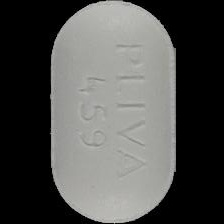0615-1590: (0, 0, 224, 224)
